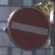No entry: (6, 6, 50, 50)
